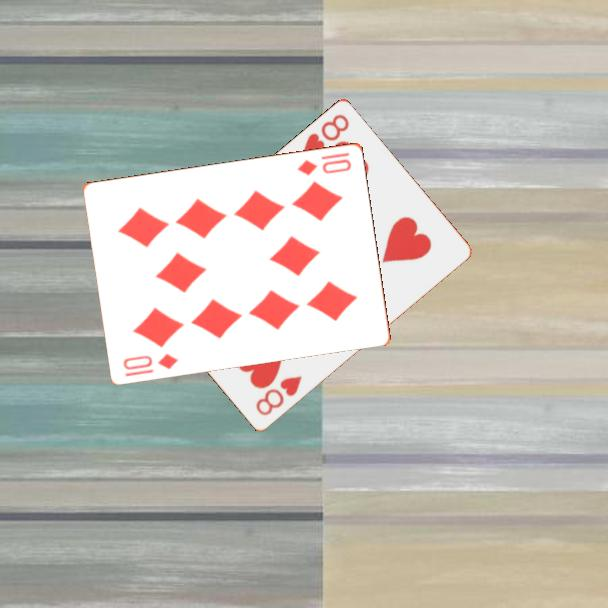d10: (120, 349, 181, 379), (294, 155, 354, 178)
h08: (252, 373, 305, 419), (299, 111, 352, 157)
